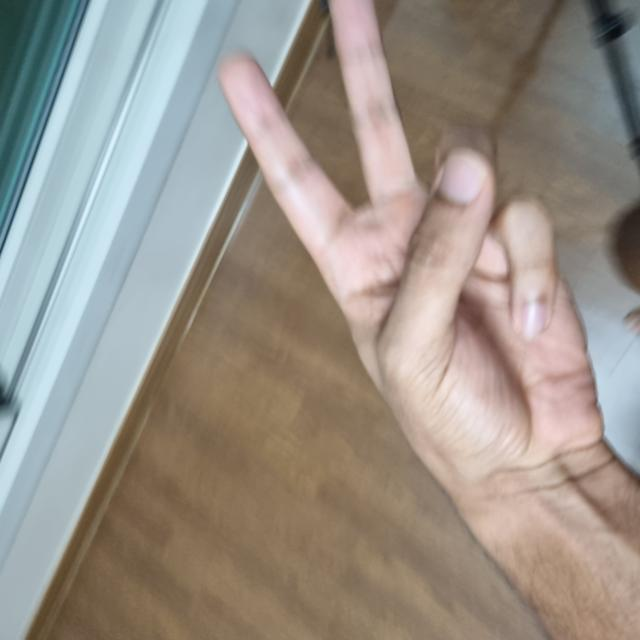Scissors: (130, 222, 640, 608)
